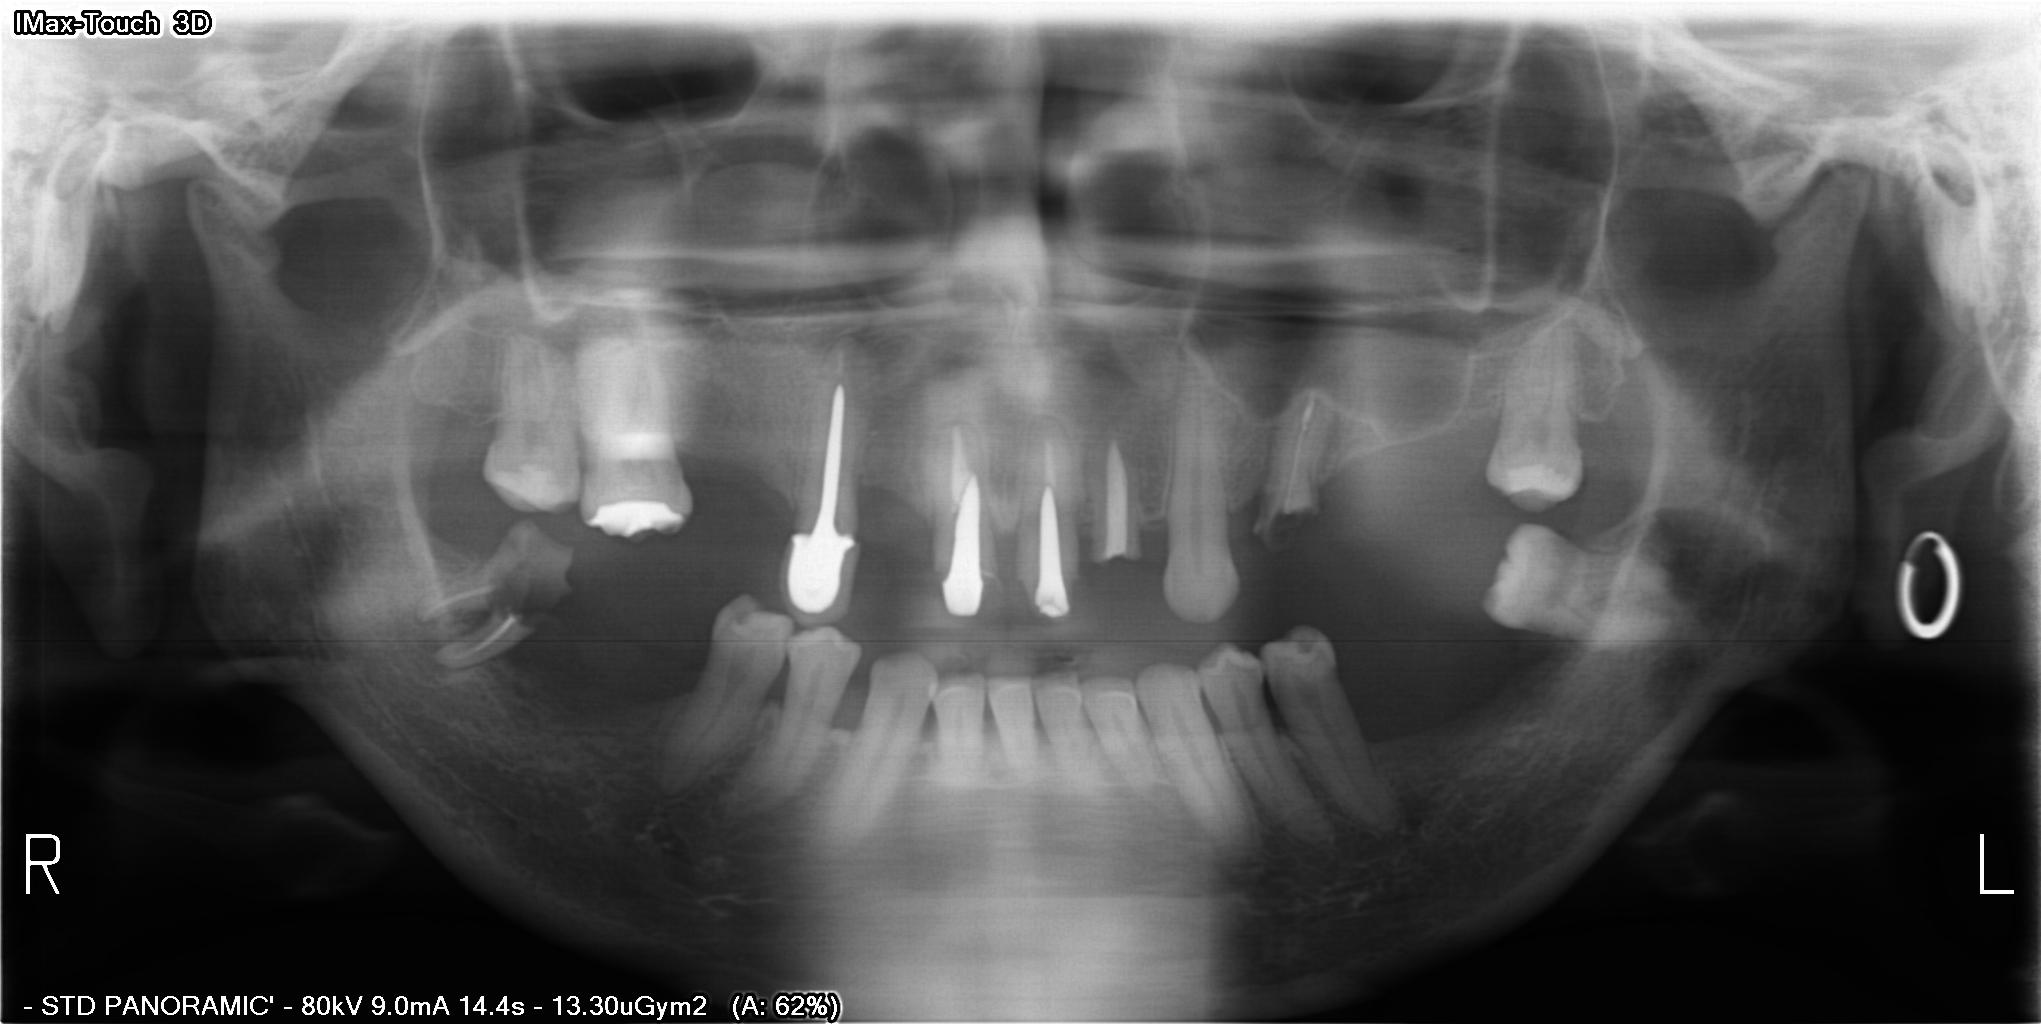Çürük: (780, 374, 862, 616), (922, 468, 1002, 623), (1026, 462, 1081, 624), (578, 490, 691, 545)
Çürük Bölgesi: (481, 554, 577, 637), (1261, 503, 1325, 543)
